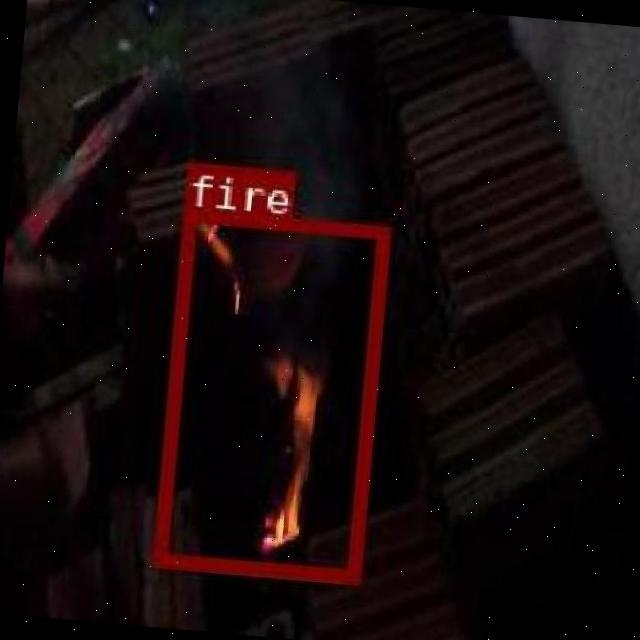fire: (150, 204, 387, 580)
